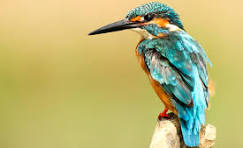Bird: (73, 0, 224, 145)
